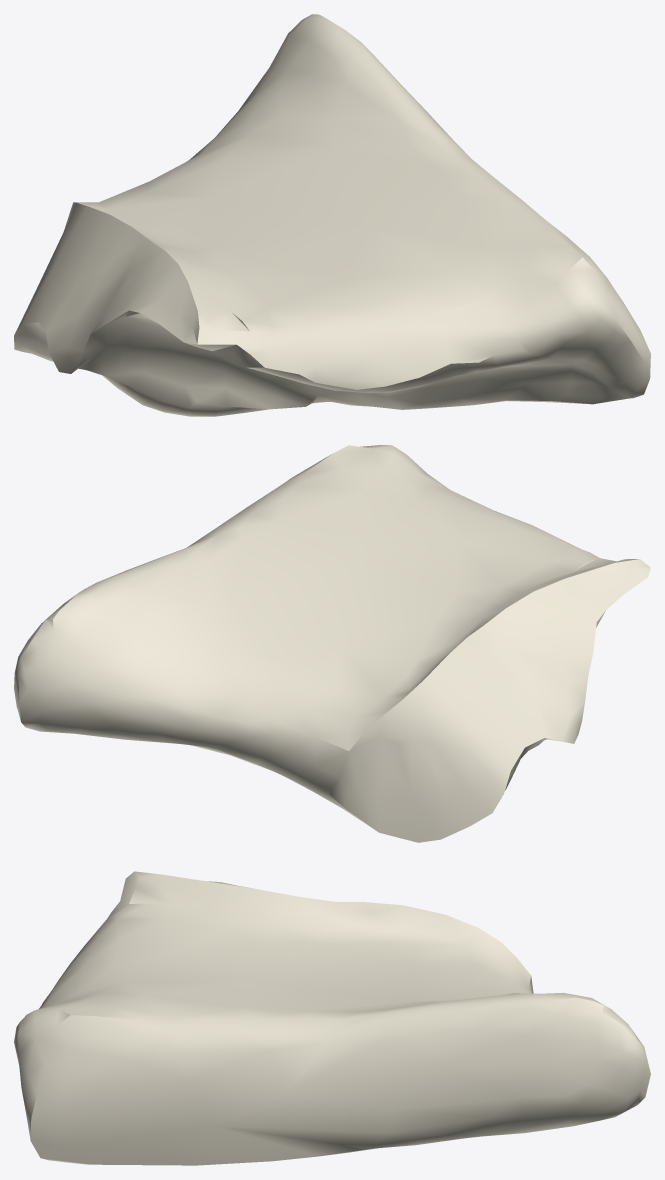
The model's file is fma59139_mm2070m.glb.
3 renders of one model, top to bottom at view 1: azimuth 30°, elevation 25°; view 2: azimuth 150°, elevation 25°; view 3: azimuth 270°, elevation 25°, orthographic. The views are drawn at different scales.
Parts seen in each view (by area): view 1: FMA59139_MM2070M; view 2: FMA59139_MM2070M; view 3: FMA59139_MM2070M.
Part boxes in pixels (left/top/right/bottom): FMA59139_MM2070M: left=14, top=14, right=650, bottom=416; FMA59139_MM2070M: left=14, top=445, right=650, bottom=842; FMA59139_MM2070M: left=14, top=871, right=650, bottom=1165.
Bounding box in the file's own units: 0.0151 × 0.00692 × 0.0206.
